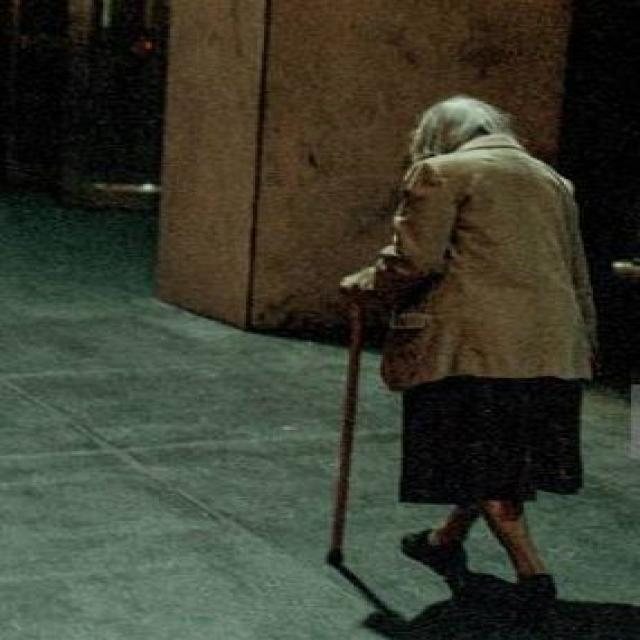idoso em pe: (325, 99, 619, 608)
